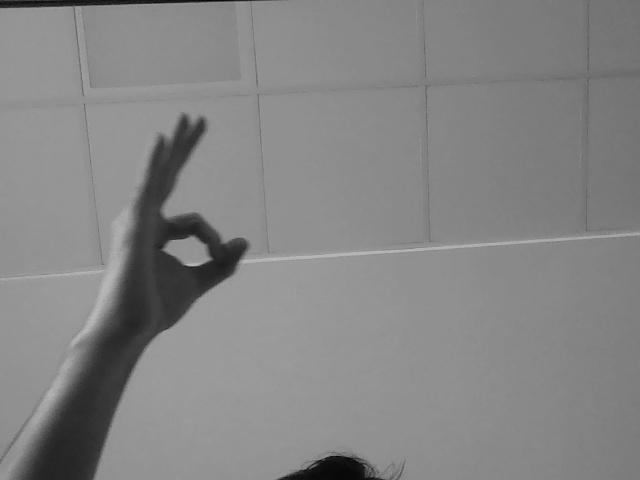OK: (103, 120, 251, 294)
